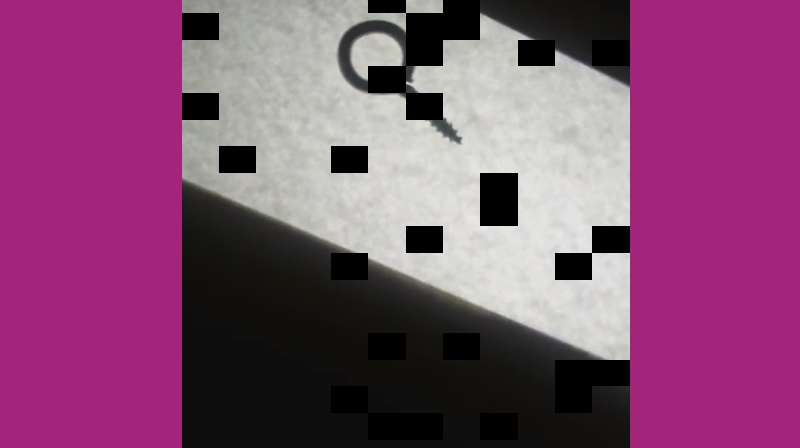O001: (334, 15, 462, 146)
